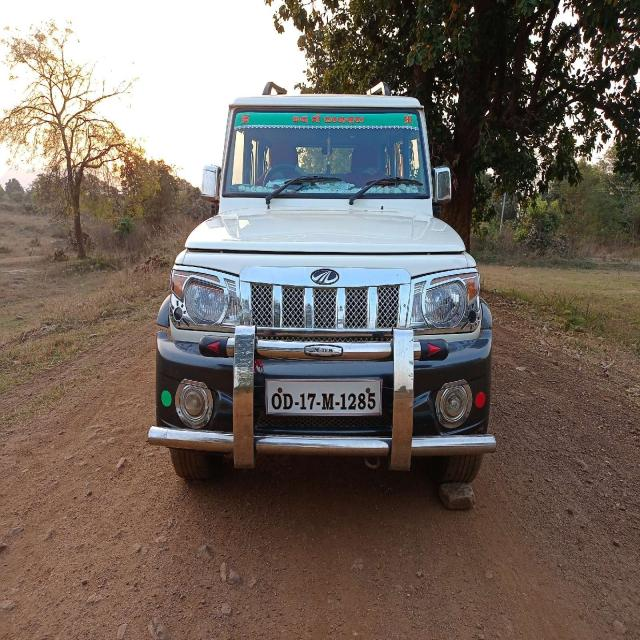light_vehicle: (152, 95, 500, 475)
